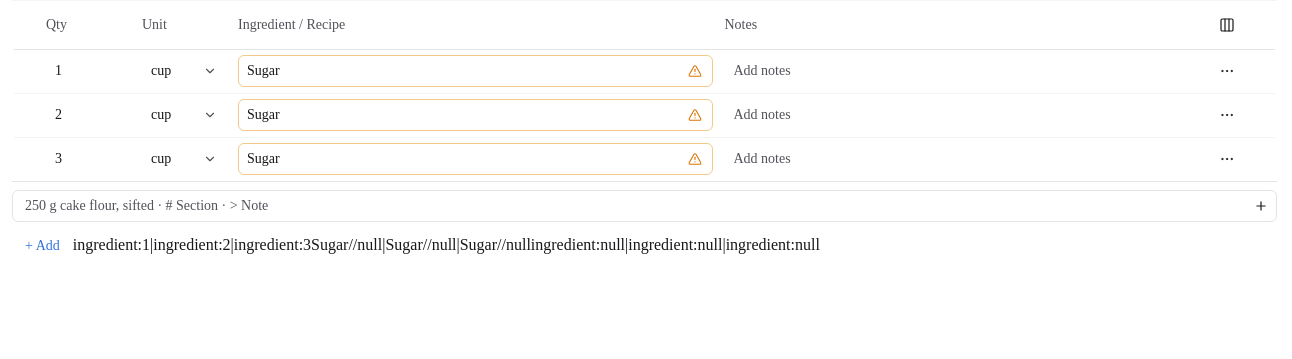
recipe items table rows › inserts a header after the row being worked on
Step 1. Type "# Filling" into the field named "Quick add ingredient" → (644, 206), box [12,190,1277,222]
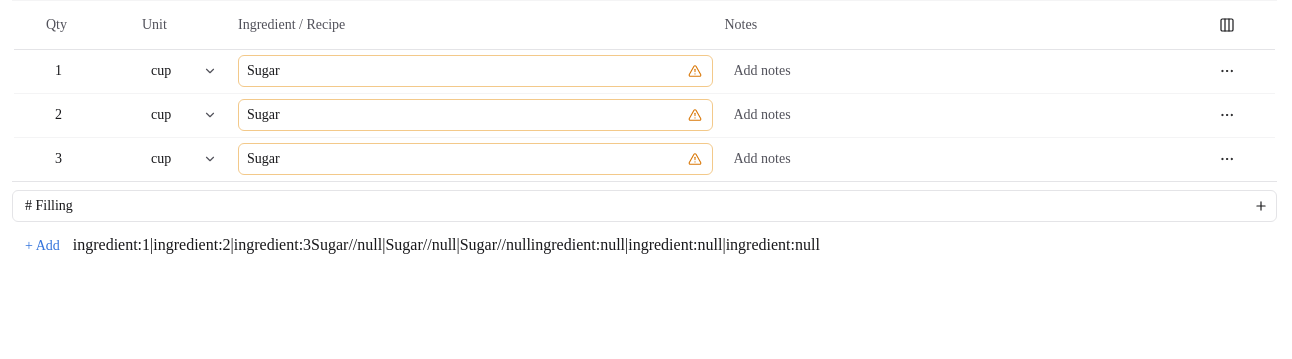
Step 2. Press Enter in the field named "Quick add ingredient", box [12,190,1277,222]
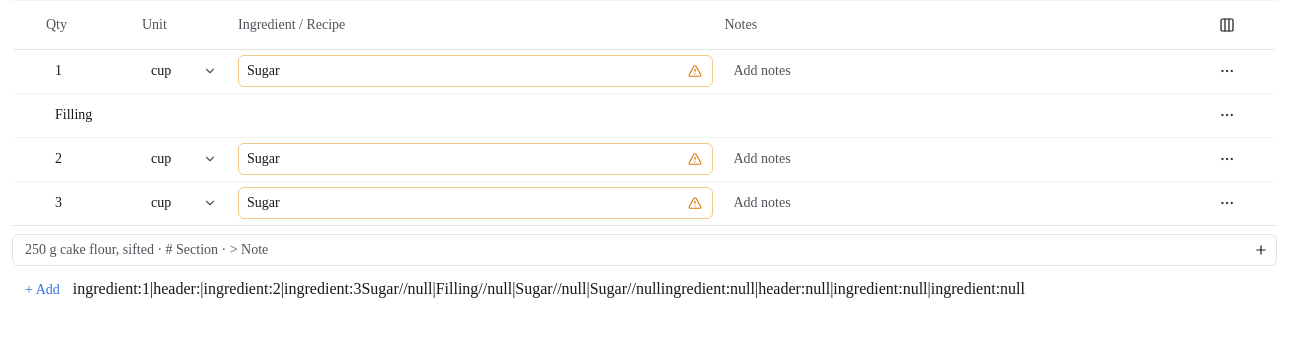
Result: the text with test id "order" reads "ingredient:1|header:|ingredient:2|ingredient:3" at [73,280,361,297]
Result: the text with test id "rows" shows "Filling//null" at [361,280,661,297]
Step 3. Type "> chill overnight" into the field named "Quick add ingredient" → (644, 250), box [12,234,1277,266]
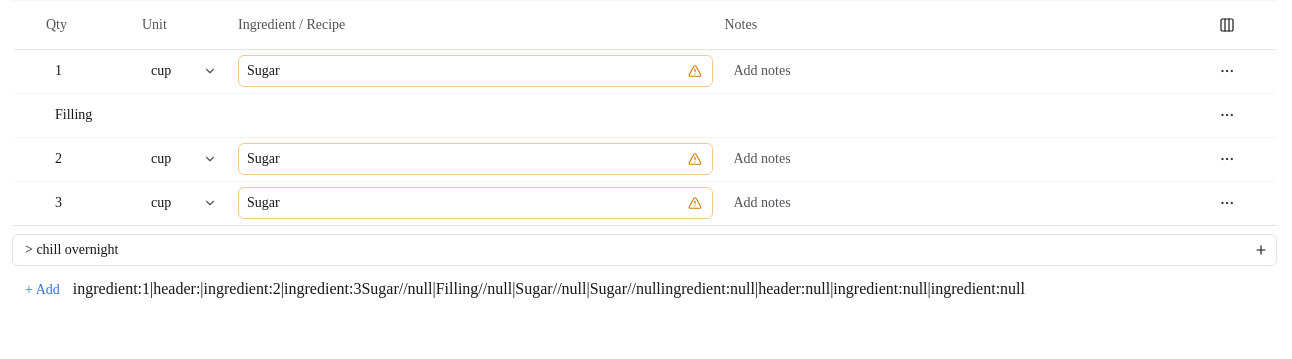
Step 4. Press Enter in the field named "Quick add ingredient", box [12,234,1277,266]
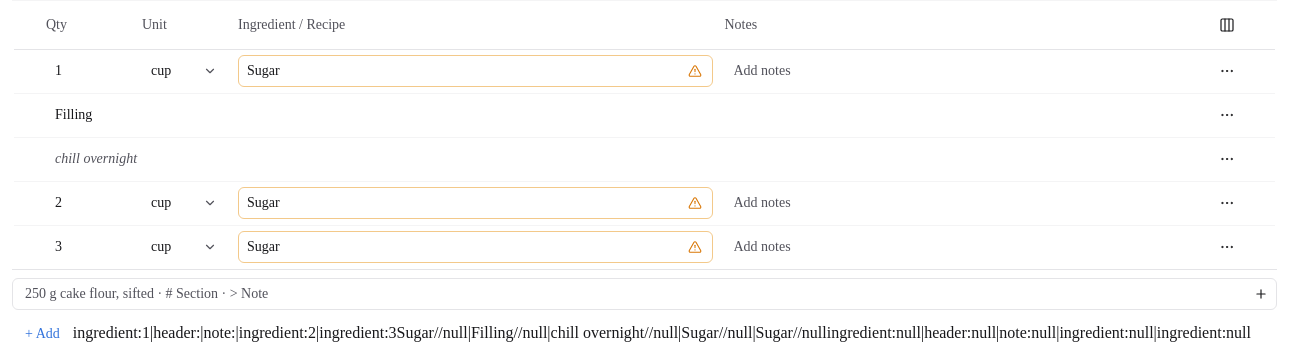
Result: the text with test id "order" reads "ingredient:1|header:|note:|ingredient:2|ingredient:3" at [73,324,397,341]
